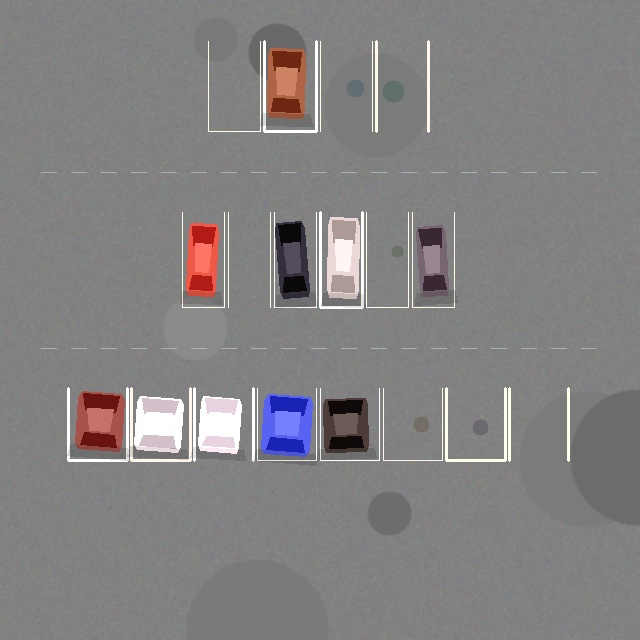space-empty: (208, 41, 260, 131), (320, 41, 372, 131), (376, 41, 428, 131), (383, 388, 442, 460), (446, 388, 505, 460), (509, 388, 568, 460), (228, 212, 270, 307), (366, 212, 408, 307)
space-occupied: (264, 41, 316, 131), (68, 388, 127, 460), (131, 388, 190, 460), (194, 388, 253, 460), (257, 388, 316, 460), (320, 388, 379, 460), (182, 212, 224, 307), (274, 212, 316, 307), (320, 212, 362, 307), (412, 212, 454, 307)
